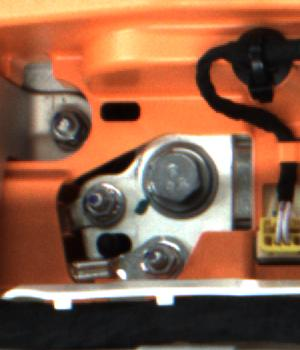nut_b: (137, 134, 220, 220)
screw_s: (78, 181, 120, 223), (48, 106, 85, 147), (141, 234, 177, 275)
